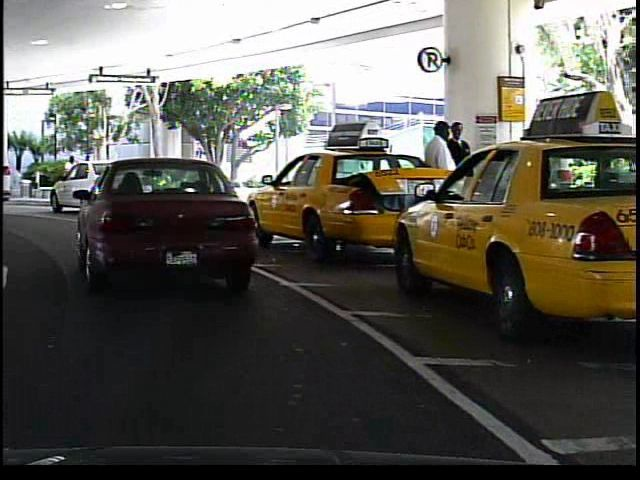person: (420, 119, 462, 243), (446, 117, 479, 237), (57, 152, 82, 197)
